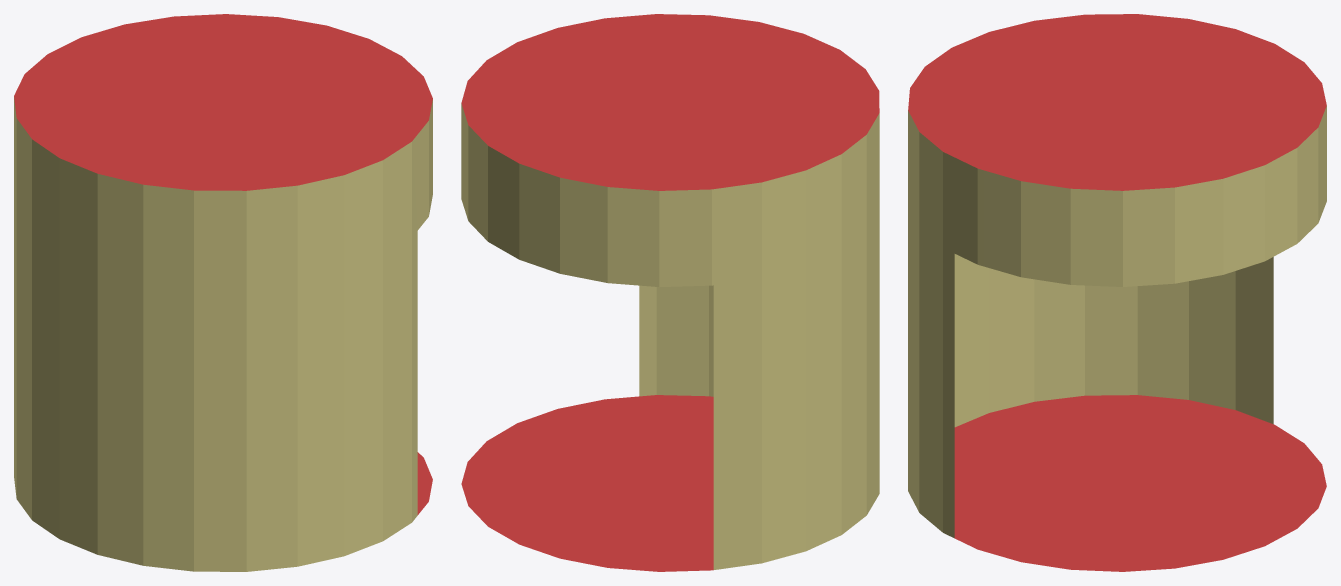
The picture shows the model from 3 angles, left to right: view 1: azimuth 30°, elevation 25°; view 2: azimuth 150°, elevation 25°; view 3: azimuth 270°, elevation 25°; orthographic projection.
Size of the model in its own units: 9.82 by 9.82 by 9.86.
